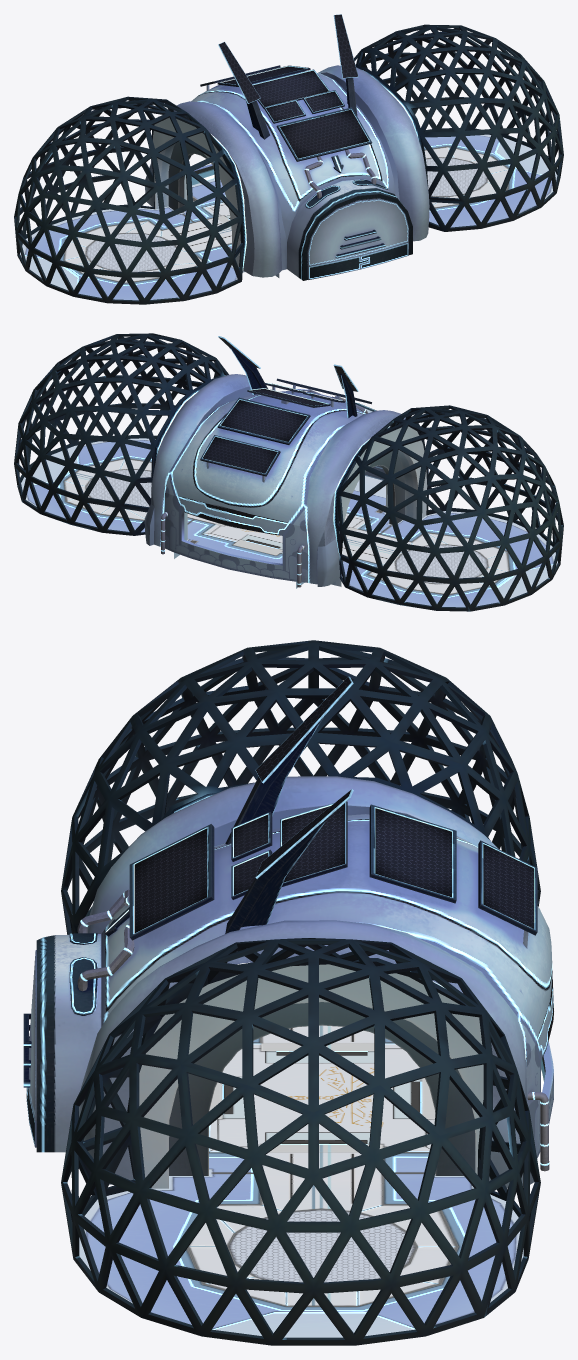
Rendered from Estructura.fbx.
3 views of the same model, one above another, from view 1: azimuth 30°, elevation 25°; view 2: azimuth 150°, elevation 25°; view 3: azimuth 270°, elevation 25° (orthographic). The views are drawn at different scales.
Parts seen in each view (by area): view 1: Estructura, Puerta_Central, Panel1, Panel4, Antenas_Izq, Antena_Der, Puertas_Baja_Izq_low, Puertas_Baja_Der_low, Panel5, Panel3, Panel2; view 2: Estructura, Panel5, Panel6, Antena_Der, Panel4, Antenas_Izq; view 3: Estructura, Panel1, Panel5, Panel6, Antena_Der, Antenas_Izq, Panel4, Puerta_Central, Panel3, Panel2.
Boxes of the visible parts, x1,y1,x2,y2 form: Estructura: (14, 24, 563, 304); Puerta_Central: (307, 198, 408, 266); Panel1: (276, 107, 372, 161); Panel4: (252, 69, 329, 108); Antenas_Izq: (218, 41, 269, 139); Antena_Der: (333, 14, 358, 115); Puertas_Baja_Izq_low: (308, 256, 368, 279); Puertas_Baja_Der_low: (360, 242, 408, 269); Panel5: (217, 65, 310, 86); Panel3: (264, 99, 305, 123); Panel2: (303, 90, 344, 113); Estructura: (14, 333, 563, 611); Panel5: (217, 397, 310, 444); Panel6: (200, 435, 280, 476); Antena_Der: (218, 336, 267, 394); Panel4: (247, 388, 330, 407); Antenas_Izq: (333, 364, 358, 418); Estructura: (36, 640, 553, 1345); Panel1: (129, 824, 214, 940); Panel5: (369, 804, 456, 903); Panel6: (478, 840, 537, 935); Antena_Der: (225, 789, 353, 933); Antenas_Izq: (225, 676, 353, 844); Panel4: (280, 801, 347, 886); Puerta_Central: (23, 950, 36, 1120); Panel3: (231, 811, 272, 861); Panel2: (231, 849, 272, 899).
Size of the model in its own units: 3687 by 1298 by 1636.
